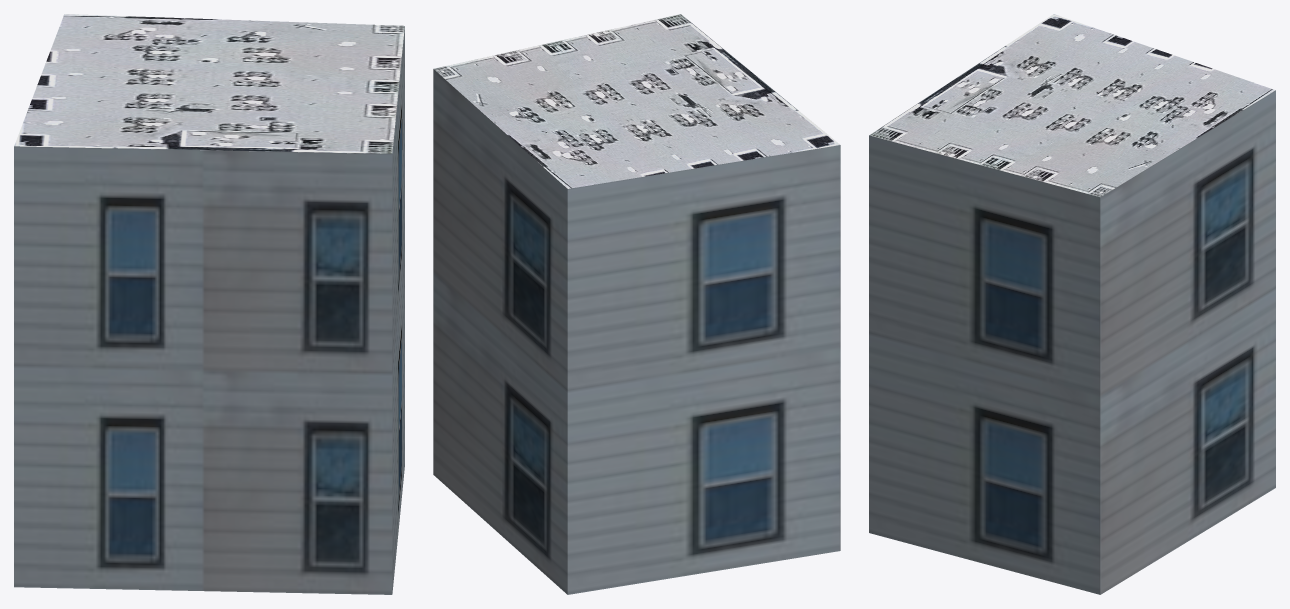
File: ResTex__2023.fbx
The picture shows the model from 3 angles, left to right: view 1: azimuth 30°, elevation 25°; view 2: azimuth 150°, elevation 25°; view 3: azimuth 270°, elevation 25°; orthographic projection. The views are drawn at different scales.
Visible parts, largest first — view 1: CityEngineMaterial_18_m, CityEngineMaterial_8_m; view 2: CityEngineMaterial_18_m, CityEngineMaterial_8_m; view 3: CityEngineMaterial_18_m, CityEngineMaterial_8_m.
Boxes of the visible parts, <box> form: CityEngineMaterial_18_m: <box>14,26,404,594</box>; CityEngineMaterial_8_m: <box>14,14,404,153</box>; CityEngineMaterial_18_m: <box>433,69,840,594</box>; CityEngineMaterial_8_m: <box>433,14,839,188</box>; CityEngineMaterial_18_m: <box>869,90,1275,594</box>; CityEngineMaterial_8_m: <box>869,14,1275,197</box>.
Bounding box in the file's own units: 5.93 × 6 × 5.56.
2 materials, 2 textured.
